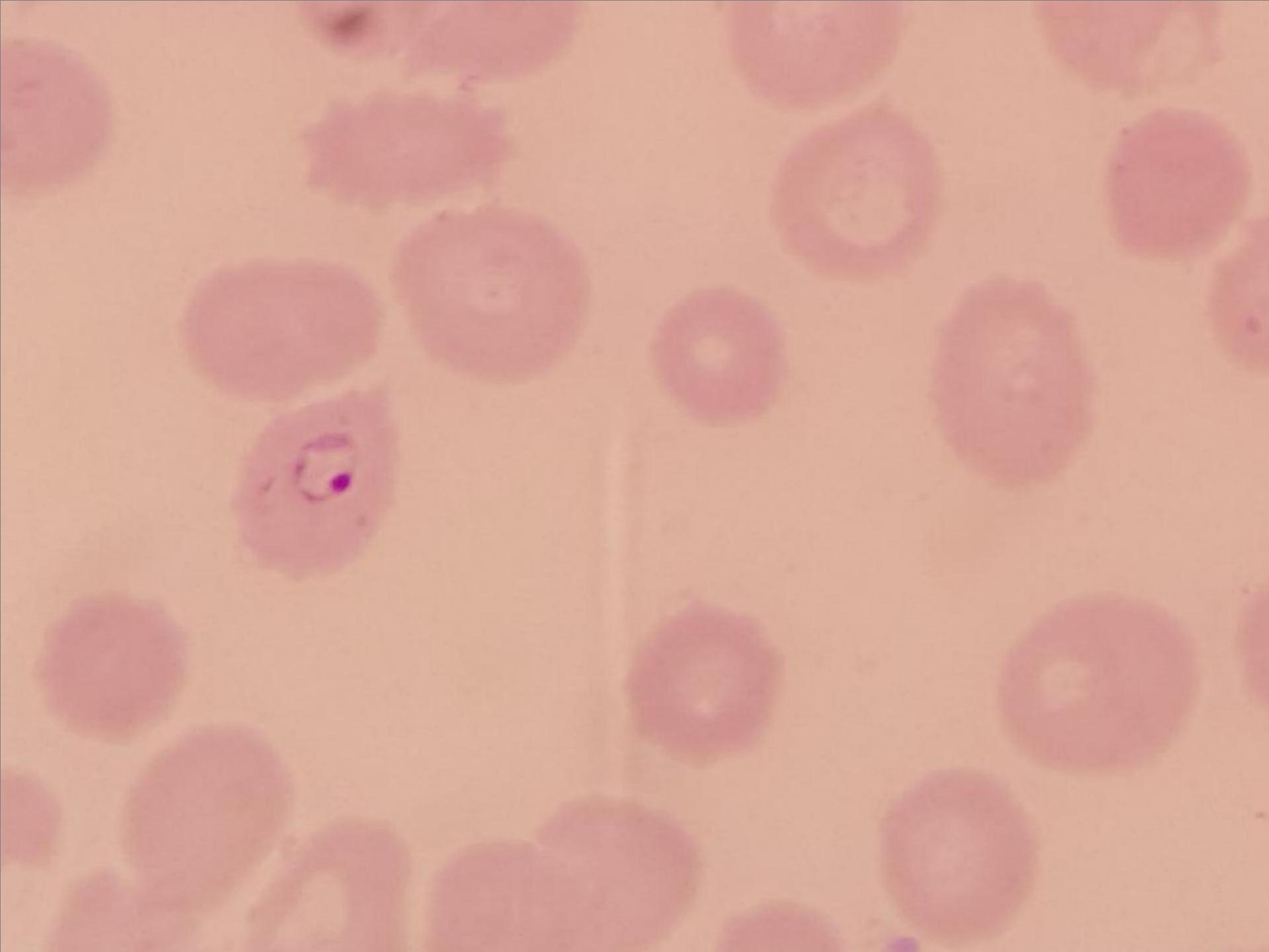Infected: (236, 379, 397, 576)
Uninfected: (995, 595, 1197, 773), (398, 203, 589, 387), (927, 278, 1095, 487), (117, 720, 299, 892), (177, 260, 384, 403), (772, 111, 939, 284), (299, 93, 510, 213), (542, 788, 703, 944), (880, 769, 1031, 935), (626, 602, 781, 758), (246, 813, 414, 952), (35, 593, 190, 741), (1107, 109, 1247, 260), (722, 0, 906, 107), (648, 289, 789, 428), (0, 43, 118, 194)
